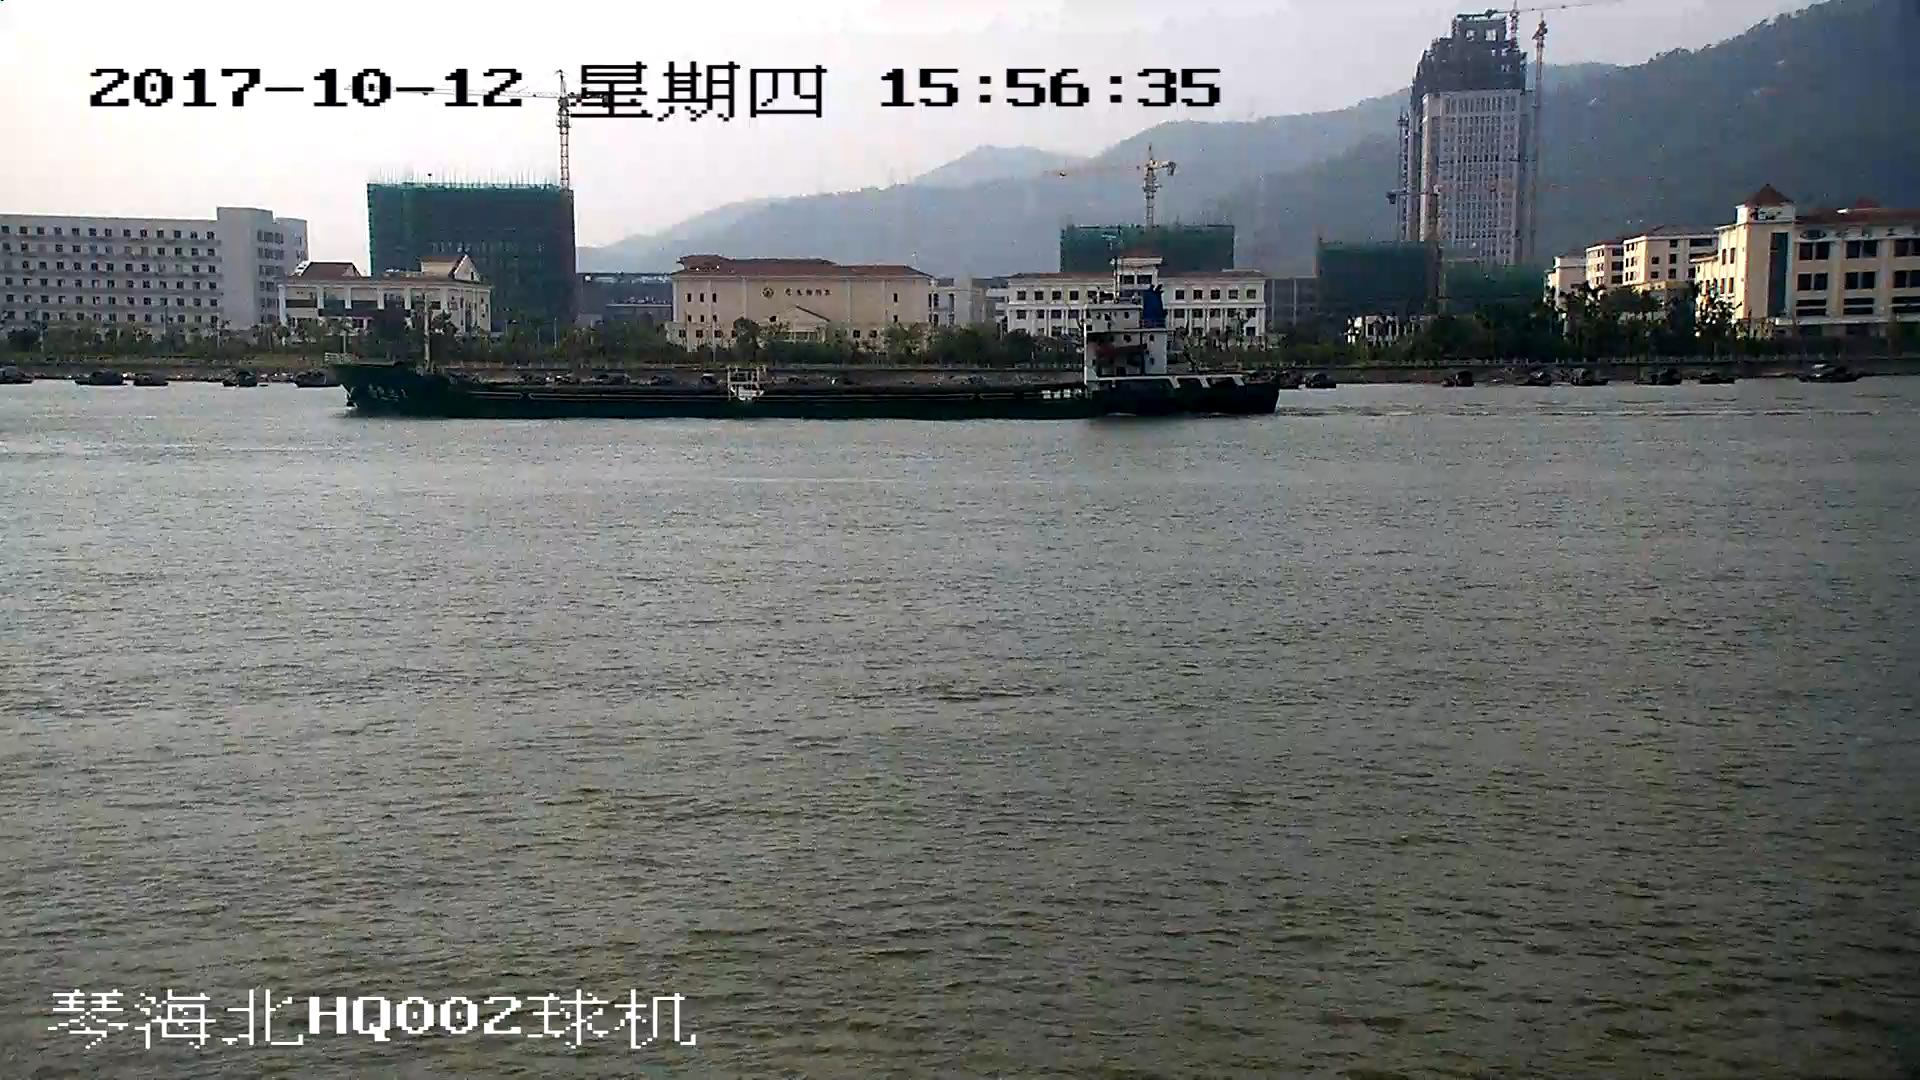general cargo ship: (323, 286, 1281, 418)
